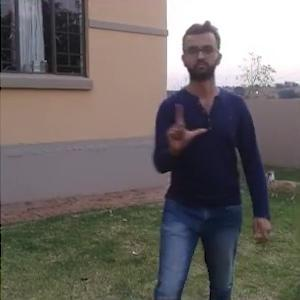land_hand: (153, 99, 205, 158)
